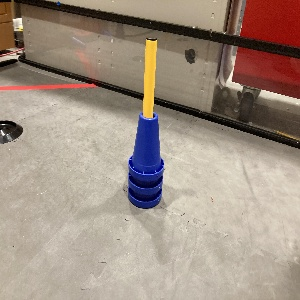Blue_3: (122, 108, 170, 210)
